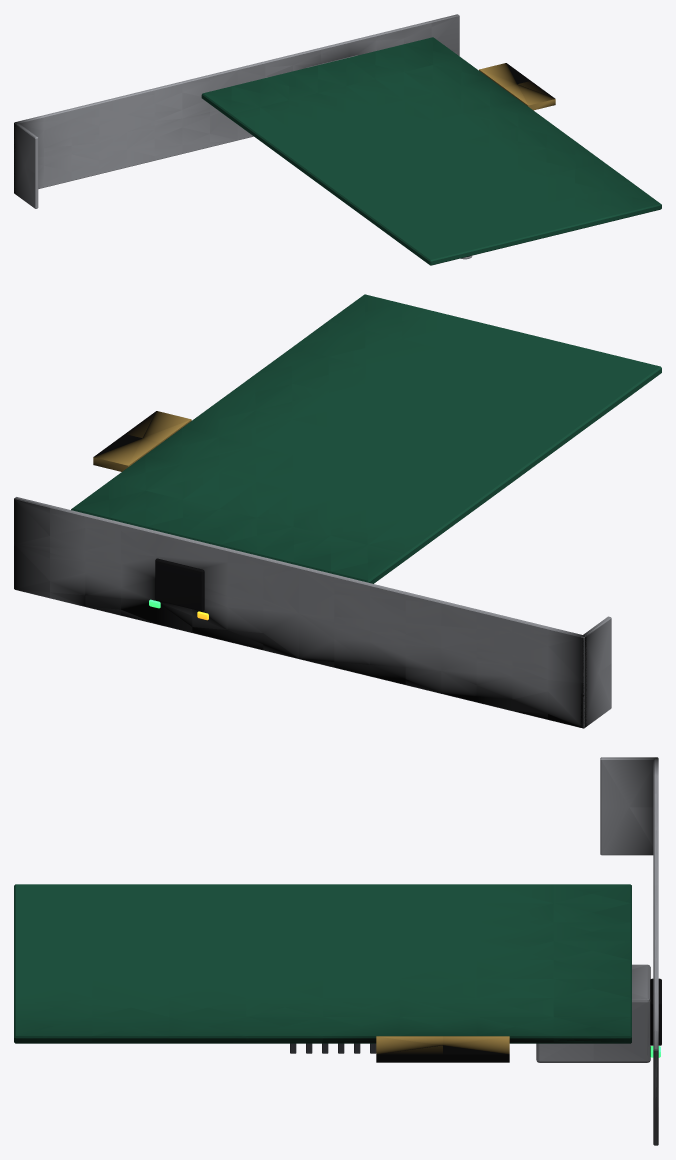
Rendered from nic.glb.
3 views of the same model, one above another, from view 1: azimuth 30°, elevation 25°; view 2: azimuth 150°, elevation 25°; view 3: azimuth 270°, elevation 25° (orthographic). The views are drawn at different scales.
Visible parts, largest first — view 1: X_nic; view 2: X_nic; view 3: X_nic.
Part boxes in pixels (x1,y1,x2,y2): X_nic: (14,14,661,265); X_nic: (14,294,661,728); X_nic: (14,757,661,1145).
Bounding box in the file's own units: 0.13 × 0.02 × 0.1216.
